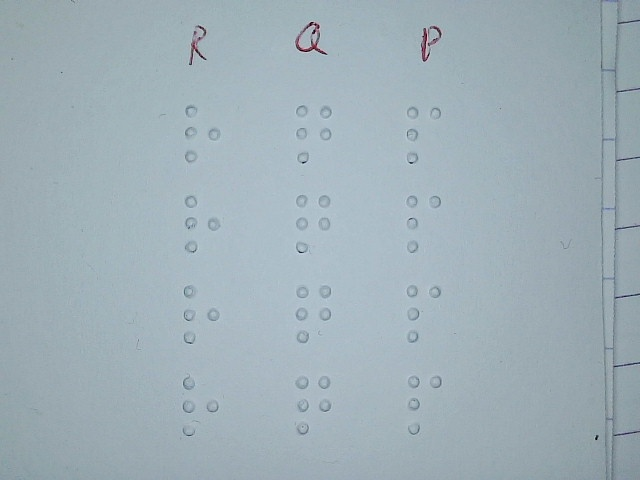P: (404, 104, 443, 167), (404, 191, 443, 254), (404, 281, 443, 344), (405, 372, 444, 435)
Q: (294, 102, 333, 165), (294, 191, 333, 254), (294, 282, 333, 345), (294, 372, 333, 435)
R: (183, 103, 222, 164), (183, 192, 222, 253), (182, 282, 221, 343), (181, 375, 220, 436)
